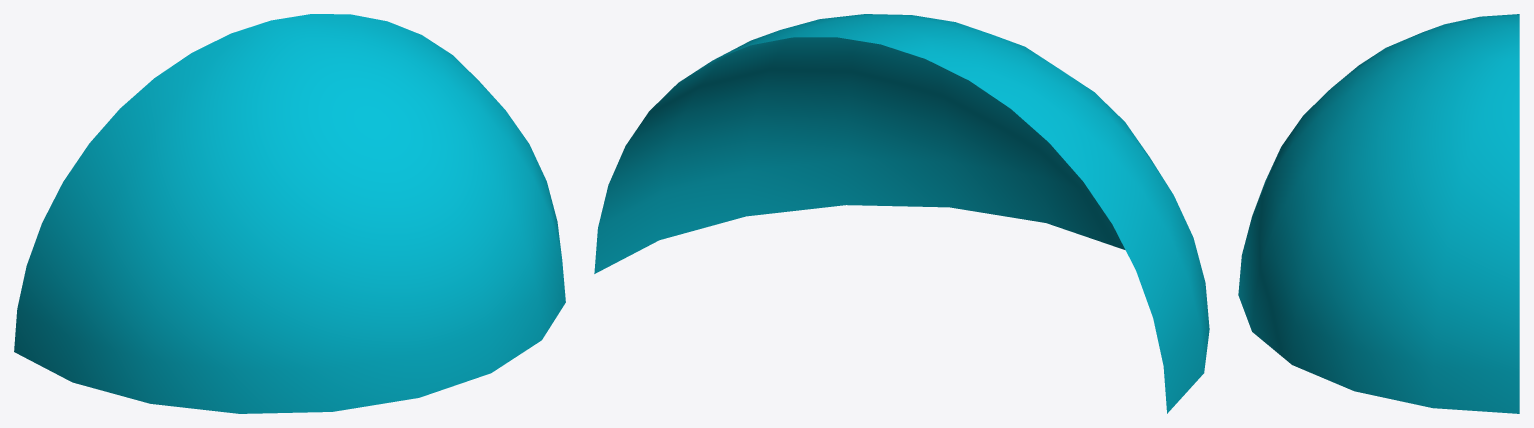
The model's file is SM_glass.fbx.
3 views of the same model, side by side, from view 1: azimuth 30°, elevation 25°; view 2: azimuth 150°, elevation 25°; view 3: azimuth 270°, elevation 25° (orthographic). The views are drawn at different scales.
Parts seen in each view (by area): view 1: pSphere4; view 2: pSphere4; view 3: pSphere4.
Boxes of the visible parts, x1,y1,x2,y2 form: pSphere4: (14,14,565,413); pSphere4: (594,14,1209,413); pSphere4: (1238,14,1519,413).
Bounding box in the file's own units: 33.94 × 16.97 × 16.97.
